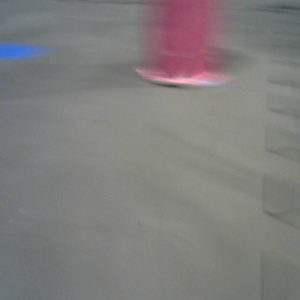Right: (133, 1, 231, 89)
